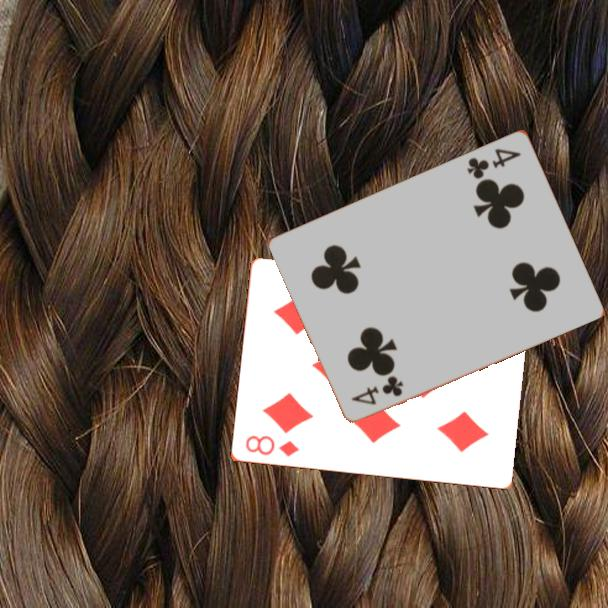c04: (463, 144, 524, 182), (348, 372, 406, 408)
d08: (241, 432, 301, 460)
